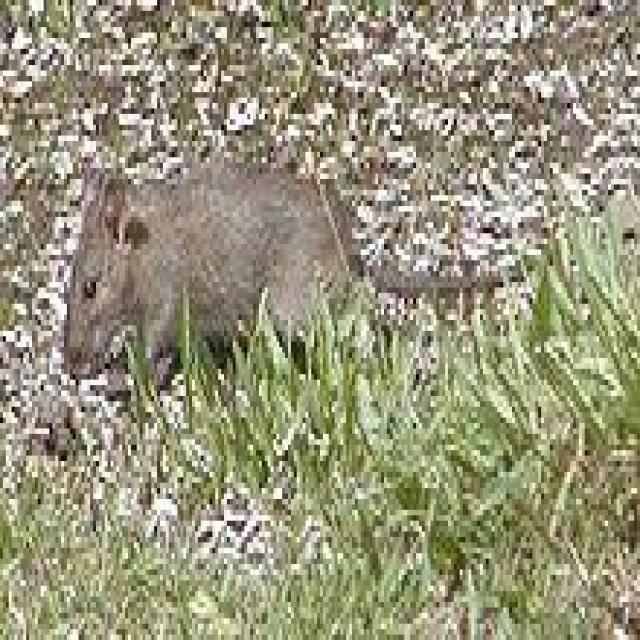Rat: (44, 136, 494, 401)
